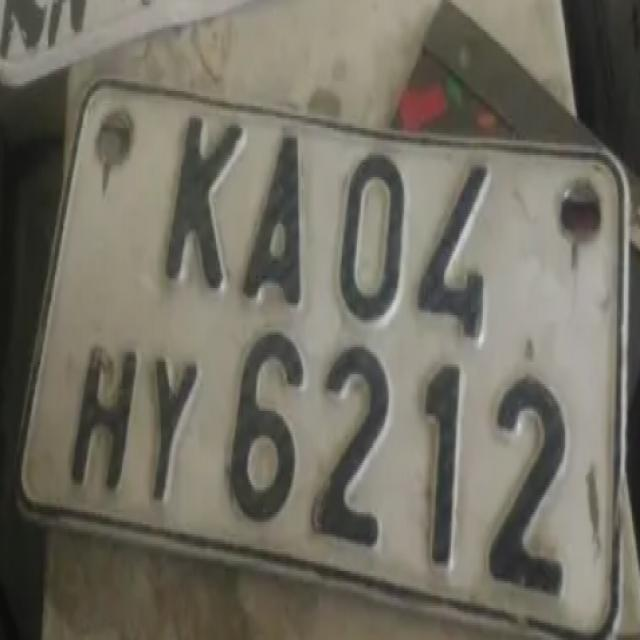0: (335, 142, 413, 333)
1: (409, 344, 472, 576)
4: (409, 156, 508, 355)
6: (219, 326, 322, 537)
A: (237, 122, 316, 320)
H: (59, 325, 143, 496)
K: (154, 100, 255, 304)
Y: (135, 344, 209, 517)
